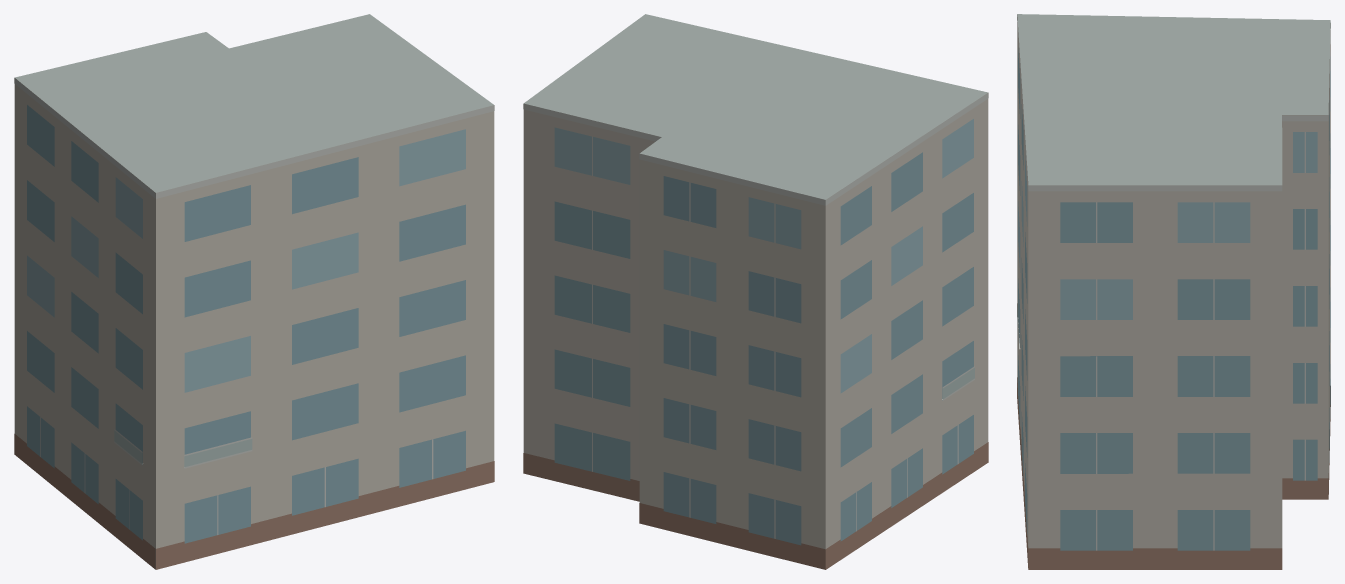
The model's file is survey-upis-32751913.glb.
3 renders of one model, left to right at view 1: azimuth 30°, elevation 25°; view 2: azimuth 150°, elevation 25°; view 3: azimuth 270°, elevation 25°, orthographic. The views are drawn at different scales.
Visible parts, largest first — view 1: survey-upis-32751913.tmp; view 2: survey-upis-32751913.tmp; view 3: survey-upis-32751913.tmp.
Boxes of the visible parts, left/top/right/bottom form: survey-upis-32751913.tmp: left=14, top=14, right=494, bottom=569; survey-upis-32751913.tmp: left=523, top=14, right=988, bottom=569; survey-upis-32751913.tmp: left=1017, top=14, right=1330, bottom=569.
Size of the model in its own units: 14.58 by 15.25 by 11.28.
